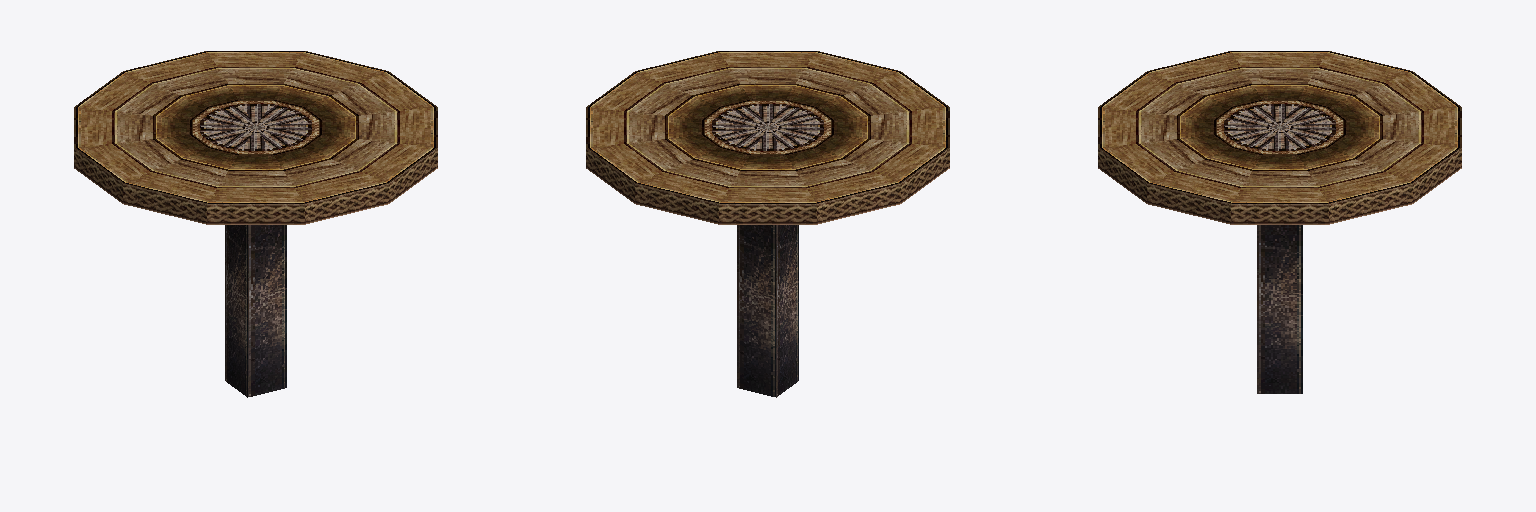
3 renders of one model, left to right at view 1: azimuth 30°, elevation 25°; view 2: azimuth 150°, elevation 25°; view 3: azimuth 270°, elevation 25°, orthographic.
Visible parts, largest first — view 1: cylinder, cube; view 2: cylinder, cube; view 3: cylinder, cube.
Boxes of the visible parts, box(x1,y1,x2,y2) form: cylinder: box(74, 51, 437, 224); cube: box(225, 225, 286, 397); cylinder: box(586, 51, 949, 224); cube: box(737, 225, 798, 397); cylinder: box(1098, 51, 1461, 224); cube: box(1257, 225, 1302, 393).
Size of the model in its own units: 1 by 0.7812 by 1.
Materials: 1 (1 with a texture image).